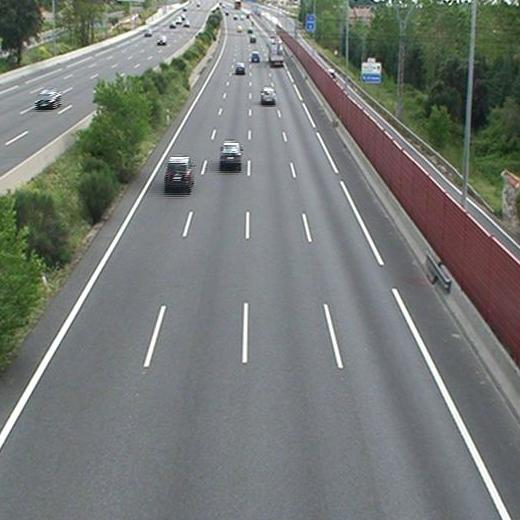car: (166, 158, 193, 188), (220, 141, 242, 163), (260, 87, 276, 103), (235, 63, 246, 73), (250, 53, 259, 62)
truck: (268, 35, 284, 66)
